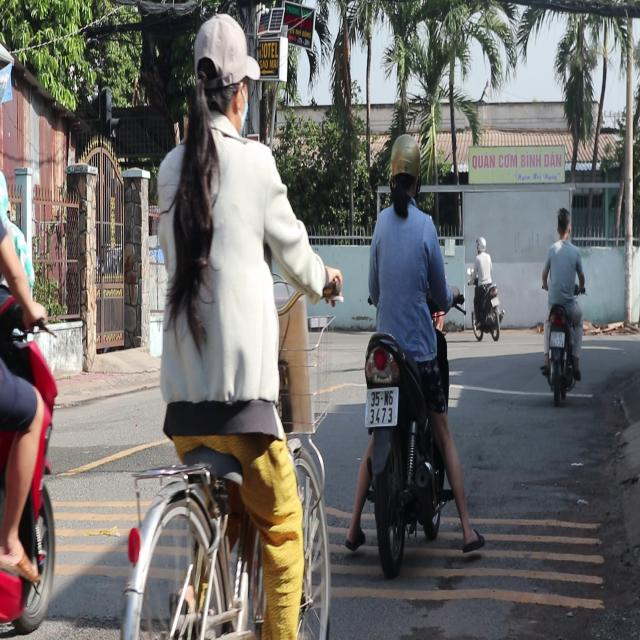helmet: (386, 130, 422, 203)
licenseplate: (351, 130, 471, 574), (539, 205, 585, 402)
motorcyclist: (554, 205, 571, 240)
nohelmet: (366, 386, 396, 423), (550, 331, 565, 346)
